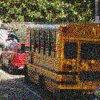buses: (22, 23, 100, 98)
